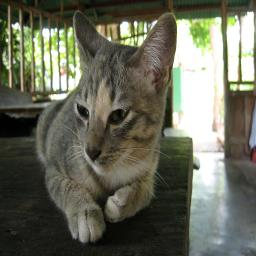catnose: (85, 142, 101, 162)
